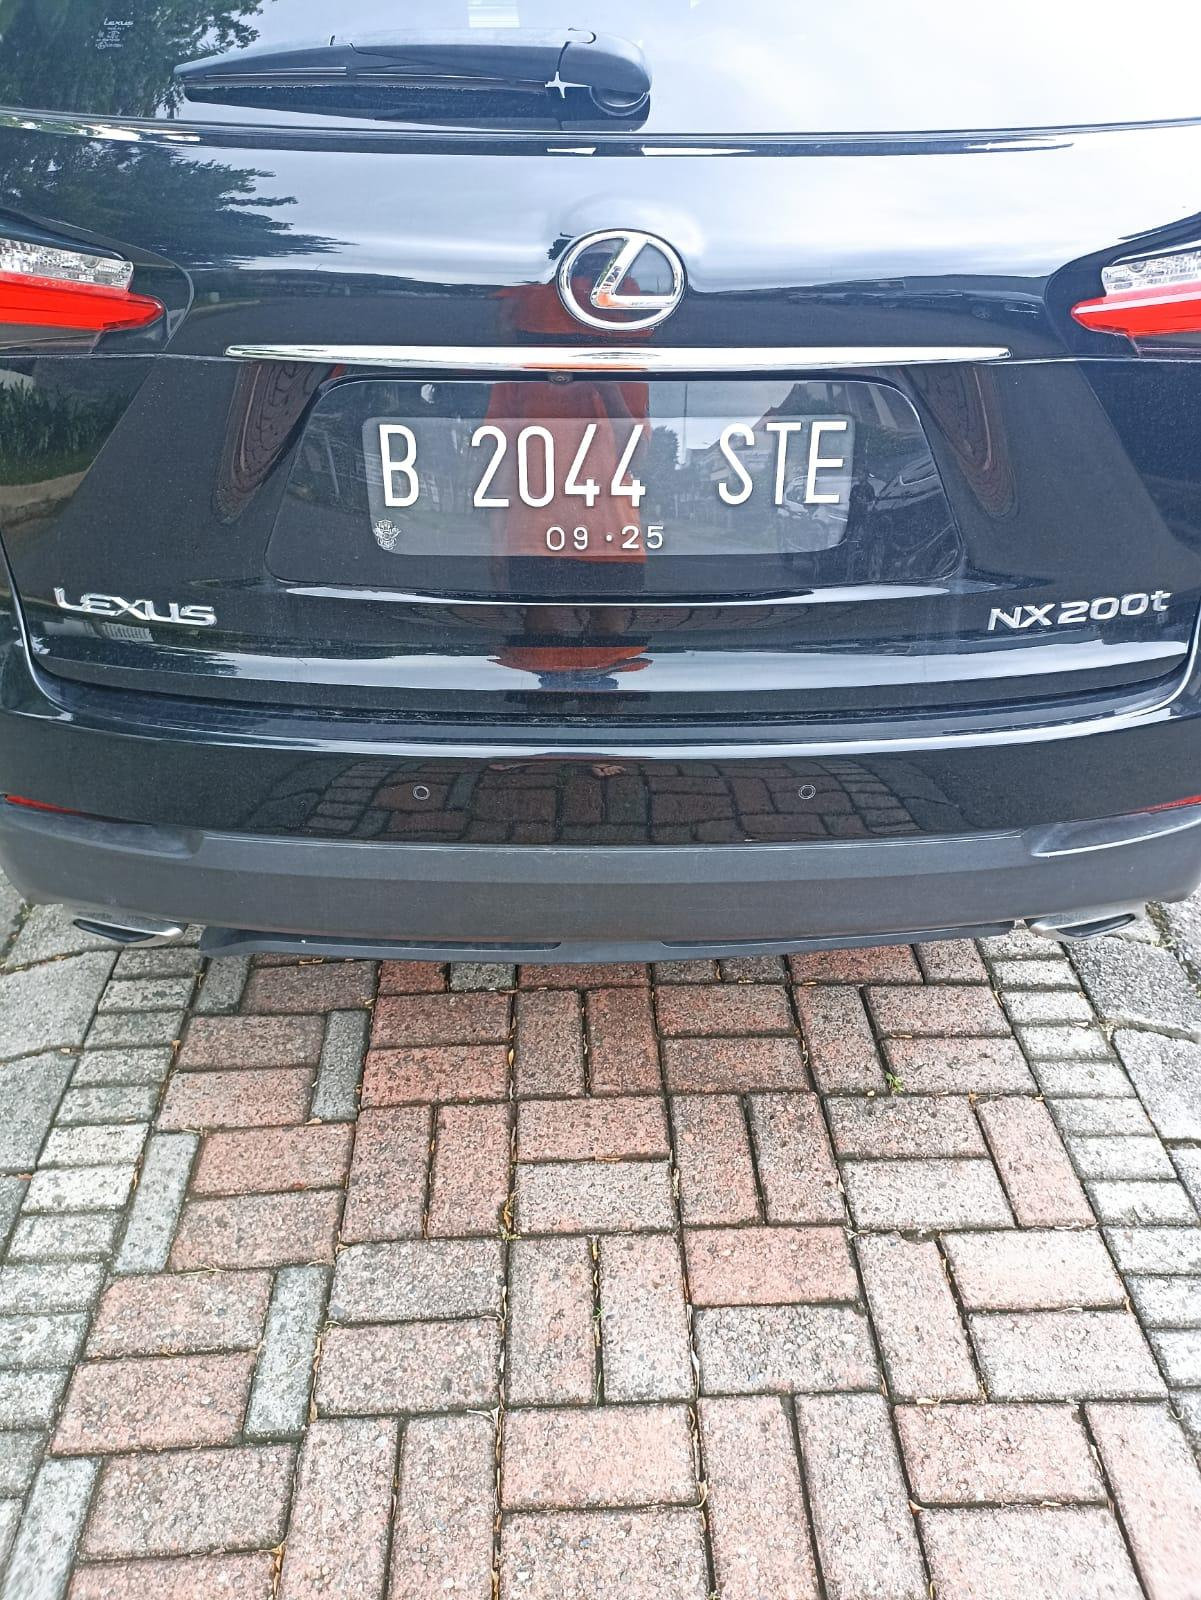plat: (348, 405, 860, 565)
